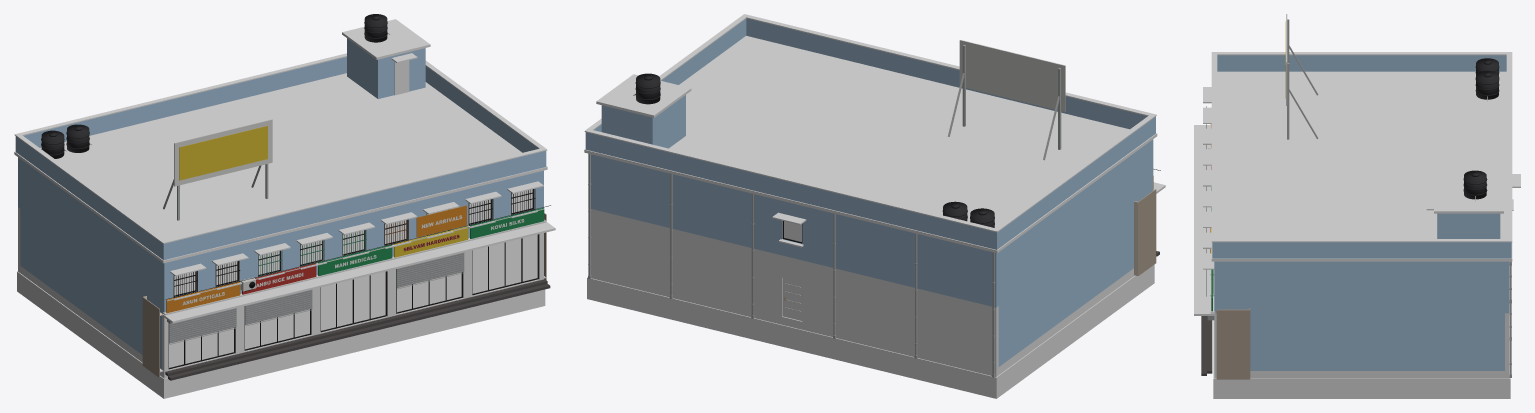
The model's file is commercial_24x16_2.glb.
3 renders of one model, left to right at view 1: azimuth 30°, elevation 25°; view 2: azimuth 150°, elevation 25°; view 3: azimuth 270°, elevation 25°, orthographic. The views are drawn at different scales.
Visible parts, largest first — view 1: commercial_24x16_2; view 2: commercial_24x16_2; view 3: commercial_24x16_2.
Part boxes in pixels (<box>): commercial_24x16_2: <box>14,14,555,398</box>; commercial_24x16_2: <box>584,14,1165,398</box>; commercial_24x16_2: <box>1194,14,1520,398</box>.
Bounding box in the file's own units: 24.5 × 13.15 × 17.71.
